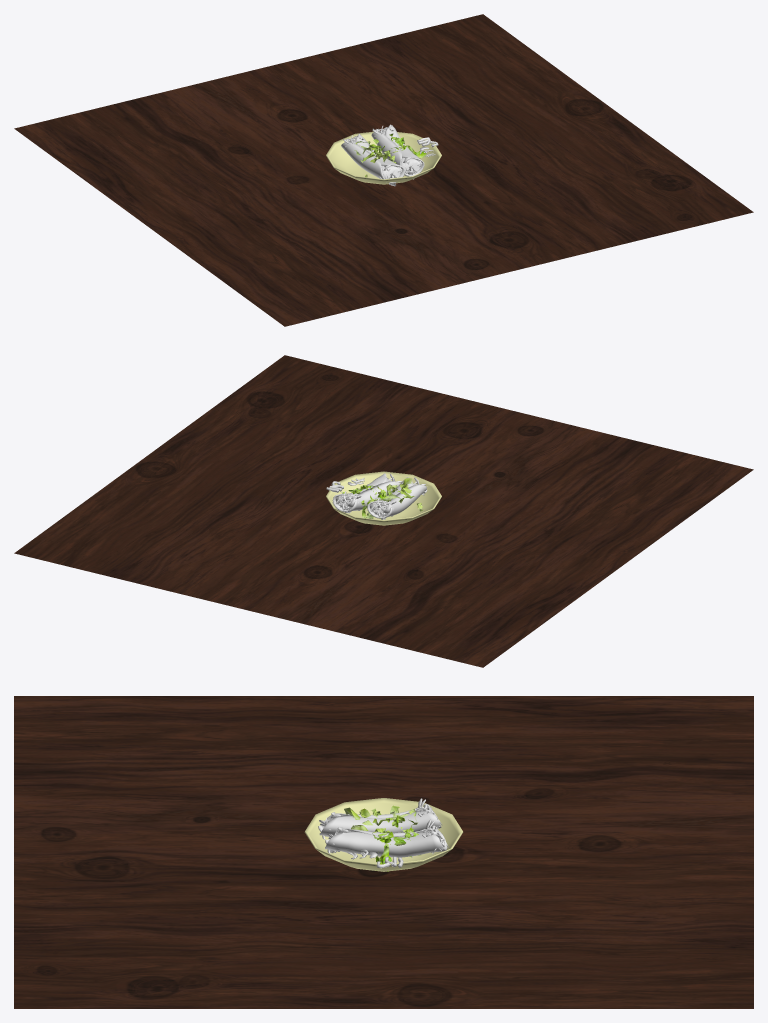
File: uploads_files_1862371_chicken+burrito1.fbx
The picture shows the model from 3 angles, top to bottom: view 1: azimuth 30°, elevation 25°; view 2: azimuth 150°, elevation 25°; view 3: azimuth 270°, elevation 25°; orthographic projection. The views are drawn at different scales.
Visible parts, largest first — view 1: Plane.004, Circle.004, Plane.002, Plane, Plane.005; view 2: Plane.004, Circle.004, Plane, Plane.005, Plane.002; view 3: Plane.004, Circle.004, Plane, Plane.002, Plane.005.
Part boxes in pixels (x1,y1,x2,y2): Plane.004: (14, 14, 753, 326); Circle.004: (326, 131, 441, 184); Plane.002: (341, 134, 405, 183); Plane: (371, 125, 424, 176); Plane.005: (354, 133, 426, 177); Plane.004: (14, 355, 753, 667); Circle.004: (326, 471, 441, 525); Plane: (332, 473, 400, 512); Plane.005: (342, 478, 423, 518); Plane.002: (367, 477, 426, 518); Plane.004: (14, 696, 753, 1008); Circle.004: (304, 798, 463, 871); Plane: (325, 828, 447, 857); Plane.002: (319, 807, 441, 835); Plane.005: (344, 805, 420, 871).
Size of the model in its own units: 3360 by 397 by 3360.
